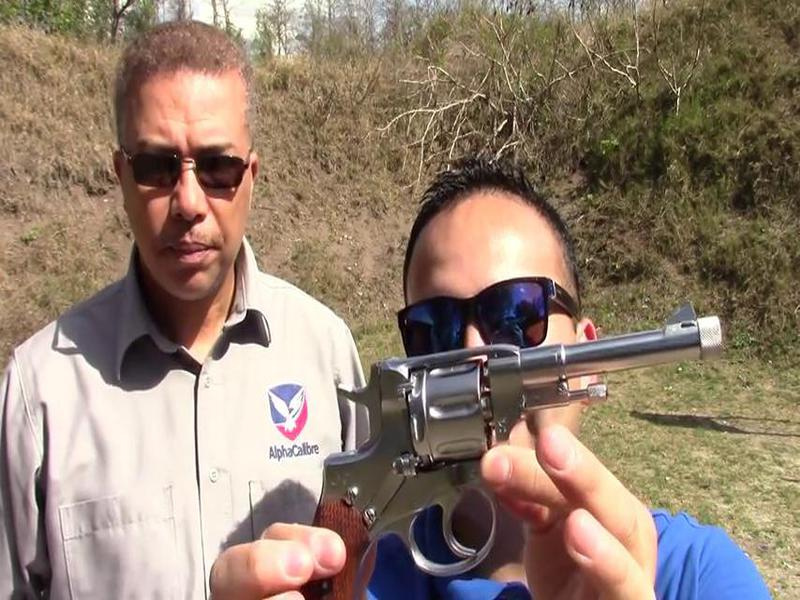Revolver: (262, 306, 766, 600)
